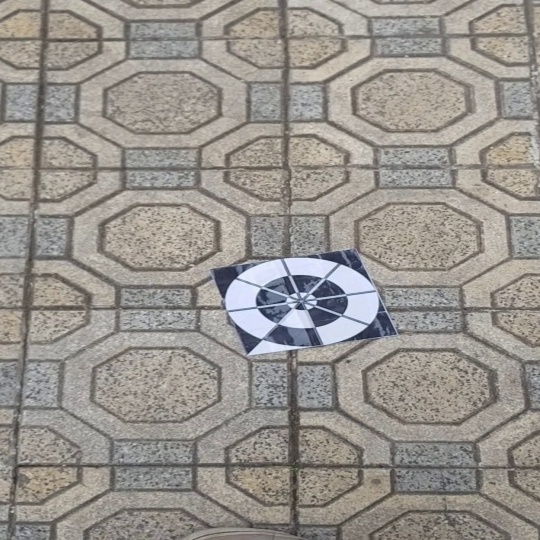landing-zone: (207, 242, 404, 358)
